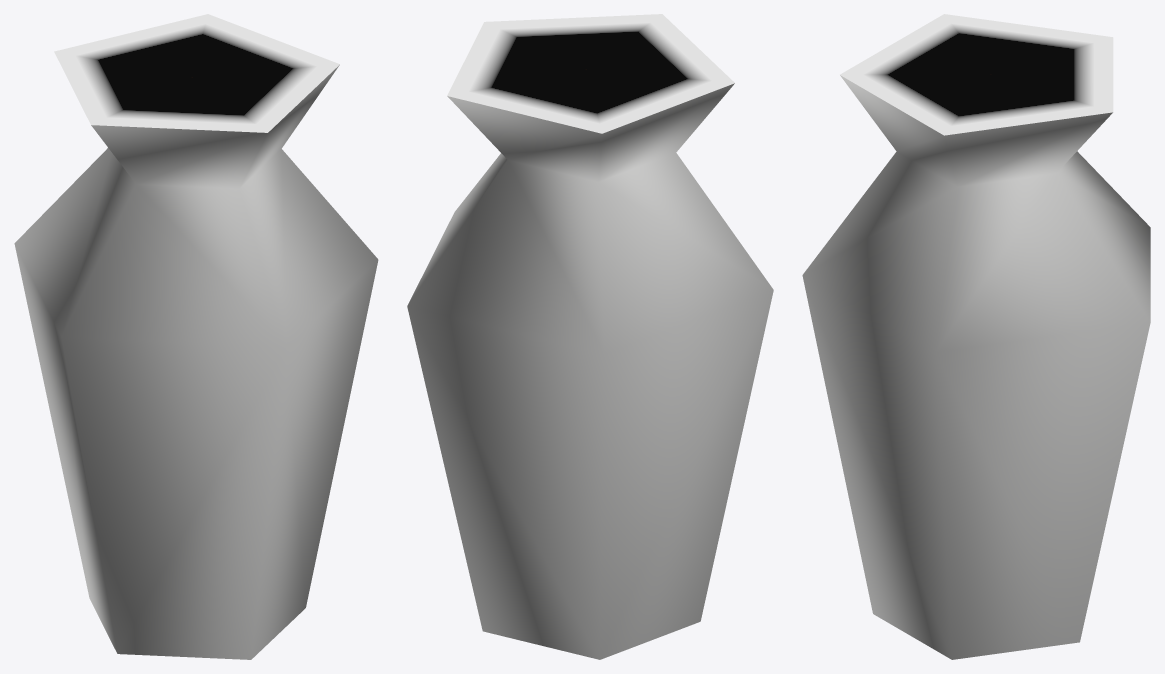
Rendered from Vase_3.fbx.
3 renders of one model, left to right at view 1: azimuth 30°, elevation 25°; view 2: azimuth 150°, elevation 25°; view 3: azimuth 270°, elevation 25°, orthographic.
Visible parts, largest first — view 1: Large_Vase_White_01; view 2: Large_Vase_White_01; view 3: Large_Vase_White_01.
Boxes of the visible parts, x1,y1,x2,y2 form: Large_Vase_White_01: [14, 14, 378, 659]; Large_Vase_White_01: [407, 14, 773, 659]; Large_Vase_White_01: [802, 14, 1150, 659].
Size of the model in its own units: 0.4185 by 0.6801 by 0.398.
